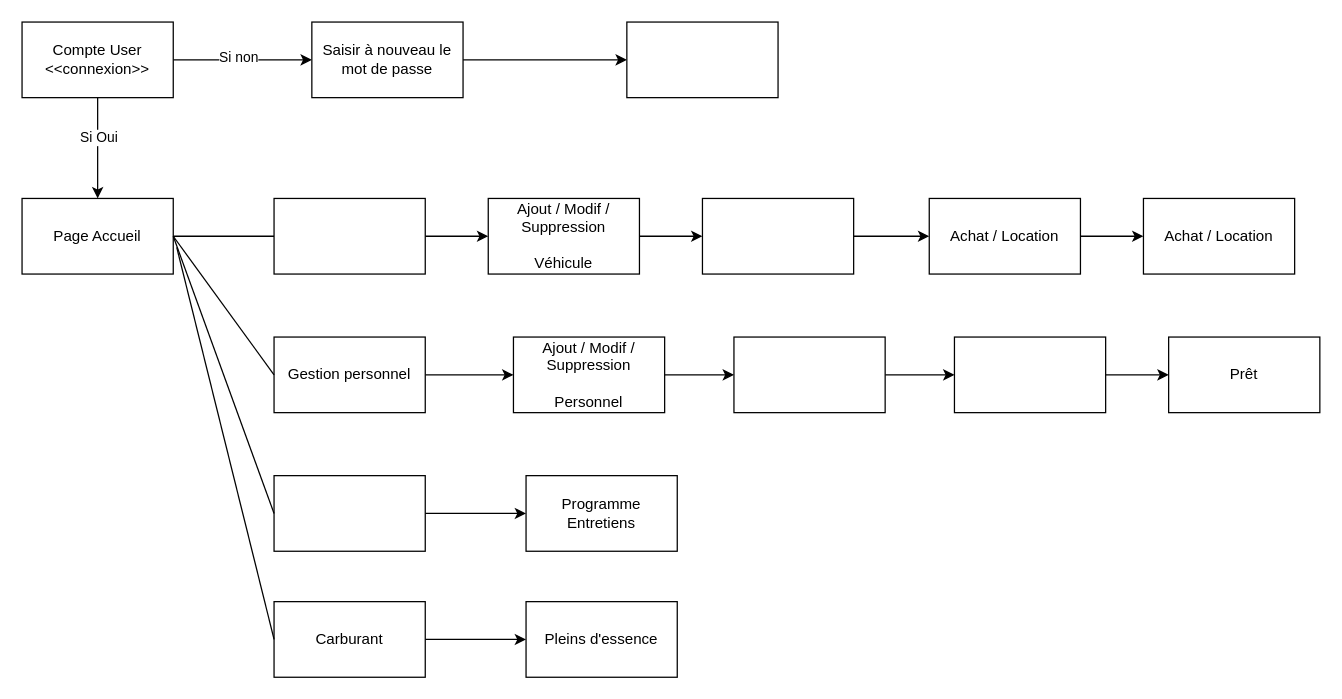
Image size: 1342x699. Some labels were removed from this diagram. The centre of each missing label's shape, as x and y in pixels:
Caces: [1029,374]
Conducteur: [777,235]
Entretiens: [349,512]
Gestion des véhicules: [349,235]
Permis: [809,374]
Suppression des données du logiciel: [702,59]
